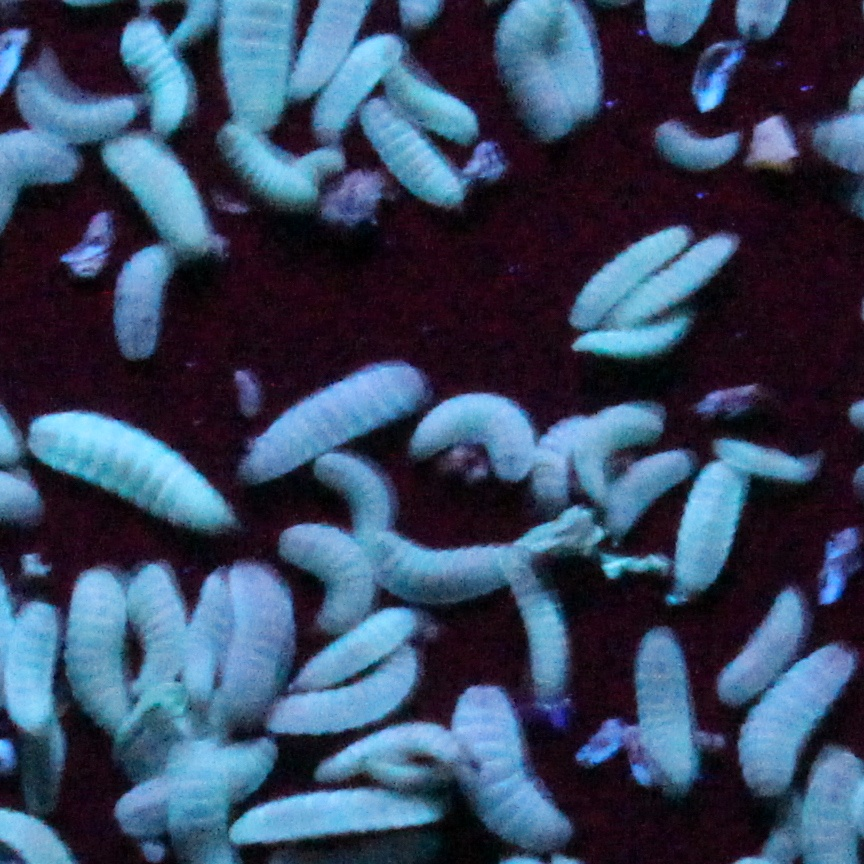larve: (30, 406, 240, 522), (737, 641, 859, 808), (114, 728, 282, 842), (459, 686, 574, 848), (257, 366, 429, 468), (624, 621, 709, 816), (98, 130, 220, 256), (209, 98, 332, 211), (564, 216, 689, 316), (12, 64, 150, 154), (369, 528, 517, 611), (62, 570, 134, 740), (624, 233, 734, 341), (359, 98, 467, 206), (664, 458, 742, 606), (562, 291, 699, 373), (230, 568, 300, 728), (228, 788, 446, 838), (727, 583, 812, 711), (172, 582, 240, 736), (282, 611, 417, 686), (274, 656, 422, 723), (327, 718, 479, 783), (419, 393, 537, 476), (106, 246, 182, 366), (579, 403, 667, 506), (287, 528, 379, 626), (130, 570, 194, 700), (517, 398, 594, 506), (317, 453, 399, 536), (622, 446, 684, 553), (719, 428, 829, 488), (652, 121, 747, 183)
